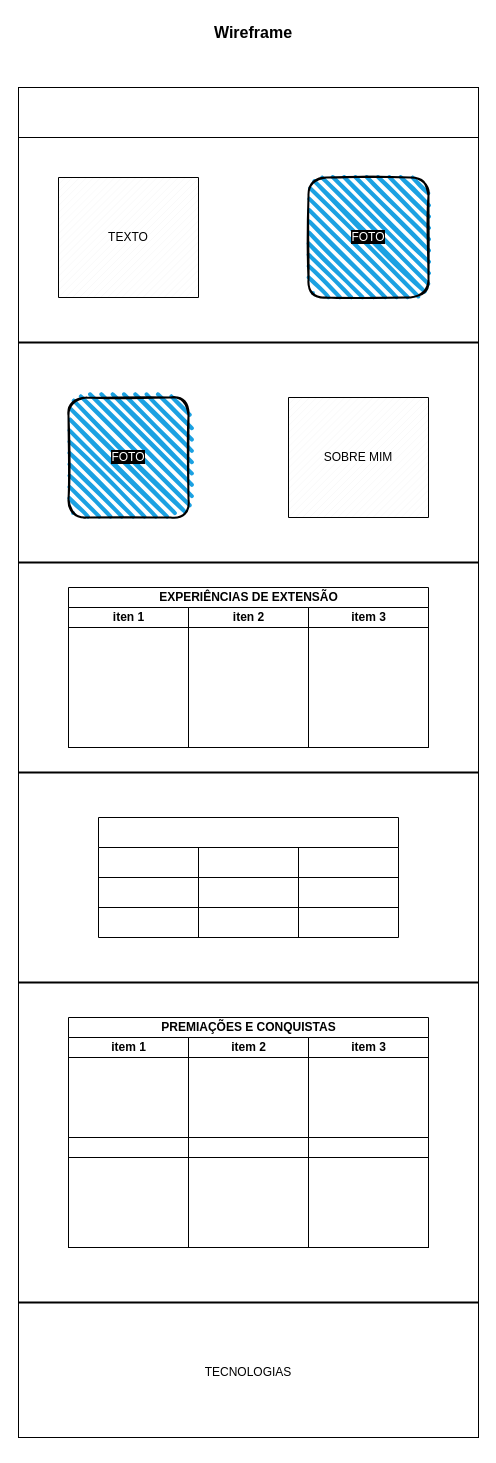
The diagram is 496 pixels wide and 1463 high, and some of its shapes have lost their labels. Each missing label, with the centre of its shape:
"HISTÓRICO ACADÊMICO" goes at (x=248, y=877).
"HOME" goes at (x=248, y=112).
"item 4" goes at (x=128, y=1192).
"item 5" goes at (x=248, y=1192).
"item 6" goes at (x=368, y=1192).
